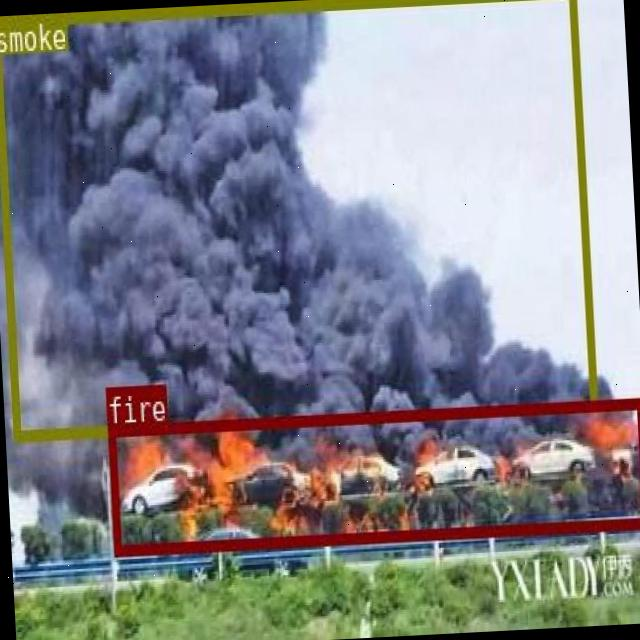fire: (106, 396, 640, 553)
smoke: (0, 0, 596, 438)
